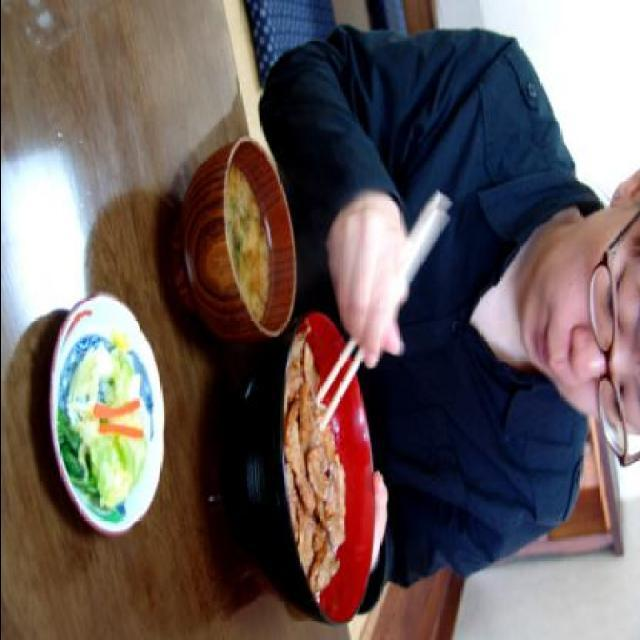Salad: (47, 314, 151, 528)
